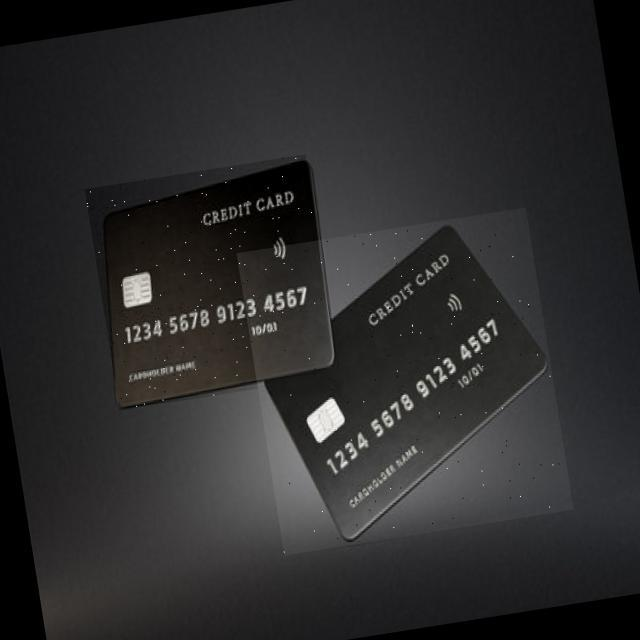payment_card: (84, 155, 335, 409)
